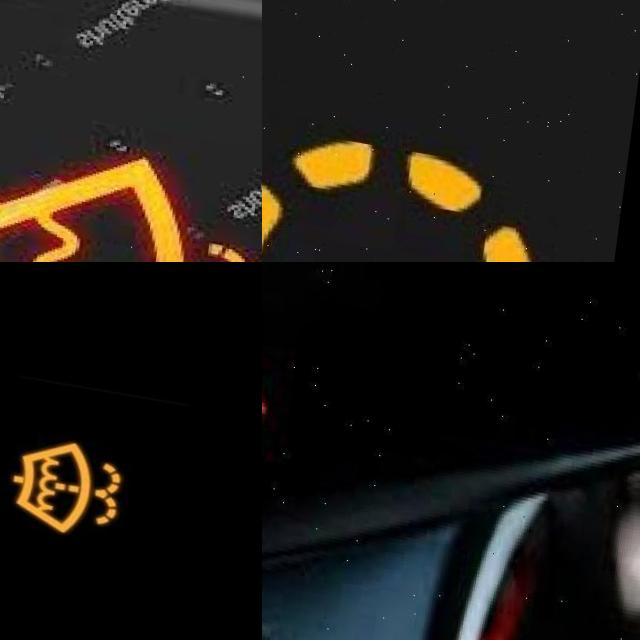Seat Belt: (262, 324, 280, 432)
Washer Fluid: (262, 77, 618, 262), (0, 118, 262, 262), (16, 423, 137, 528)
